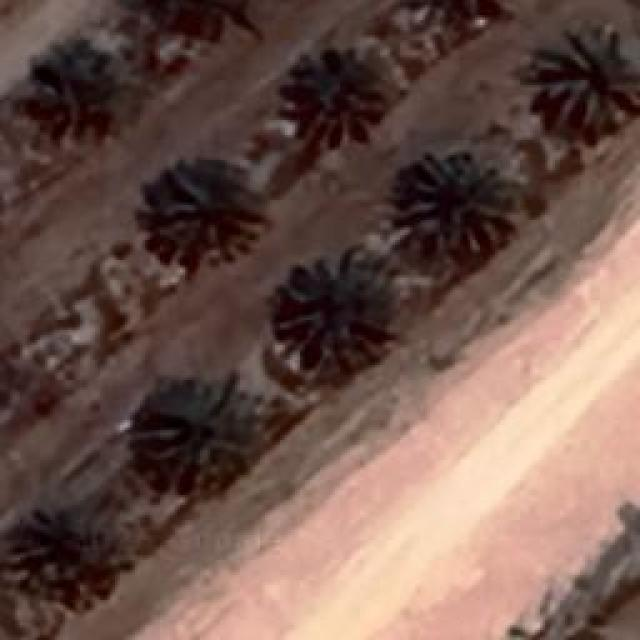PalmTree: (148, 158, 268, 264), (270, 257, 382, 365), (405, 150, 520, 255), (530, 25, 635, 133), (45, 41, 145, 144), (140, 380, 250, 472), (32, 504, 126, 608), (290, 41, 392, 131), (126, 0, 251, 43)
